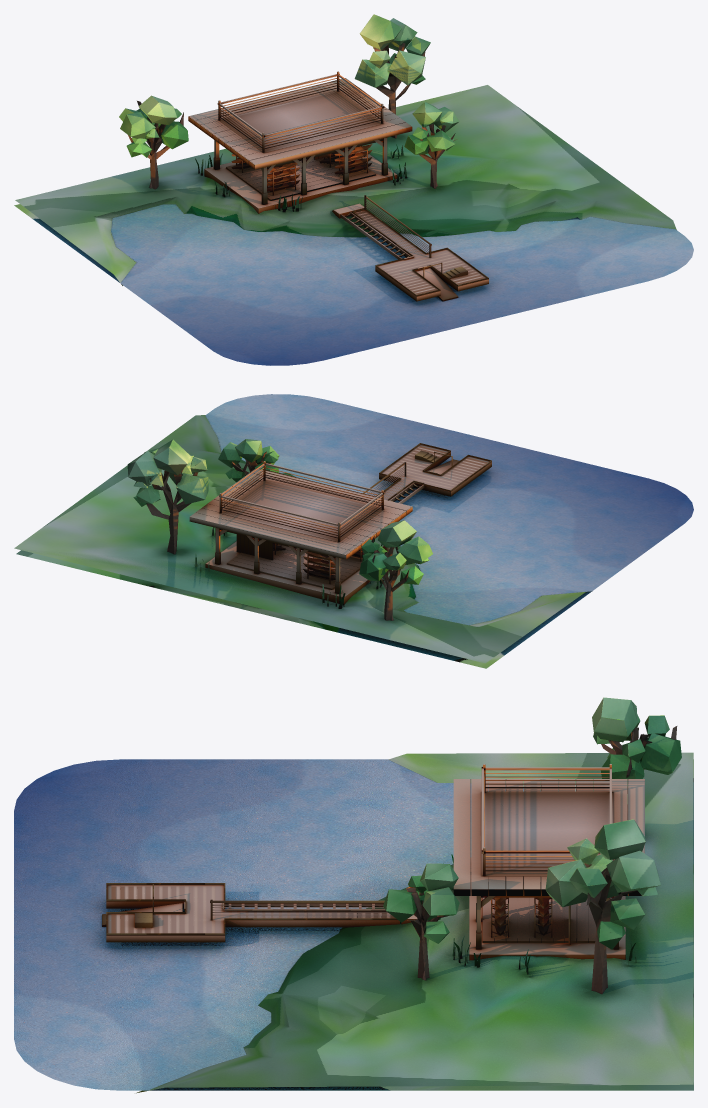
The model's file is boathouse4.glb.
3 renders of one model, top to bottom at view 1: azimuth 30°, elevation 25°; view 2: azimuth 150°, elevation 25°; view 3: azimuth 270°, elevation 25°, orthographic. The views are drawn at different scales.
Visible parts, largest first — view 1: b_environment, b_boathouse, b_canoelaunch, b_canoe; view 2: b_environment, b_boathouse, b_canoelaunch, b_canoe; view 3: b_environment, b_boathouse, b_canoelaunch, b_canoe.
Boxes of the visible parts, box(x1,y1,x2,y2) form: b_environment: box(14, 14, 693, 365); b_boathouse: box(188, 71, 412, 213); b_canoelaunch: box(332, 195, 488, 301); b_canoe: box(231, 144, 372, 195); b_environment: box(14, 394, 693, 668); b_boathouse: box(189, 461, 412, 604); b_canoelaunch: box(363, 443, 491, 503); b_canoe: box(273, 543, 363, 583); b_environment: box(14, 697, 693, 1093); b_boathouse: box(453, 764, 644, 960); b_canoelaunch: box(102, 883, 417, 942); b_canoe: box(491, 876, 552, 937).
Bounding box in the file's own units: 21.95 × 5.93 × 18.91.
Materials: 5 (5 with a texture image).
